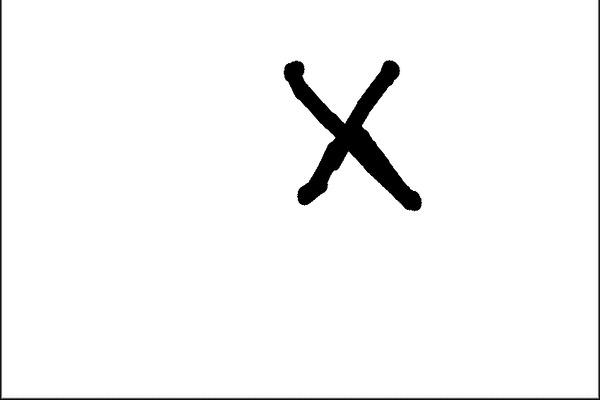X: (260, 39, 433, 246)
